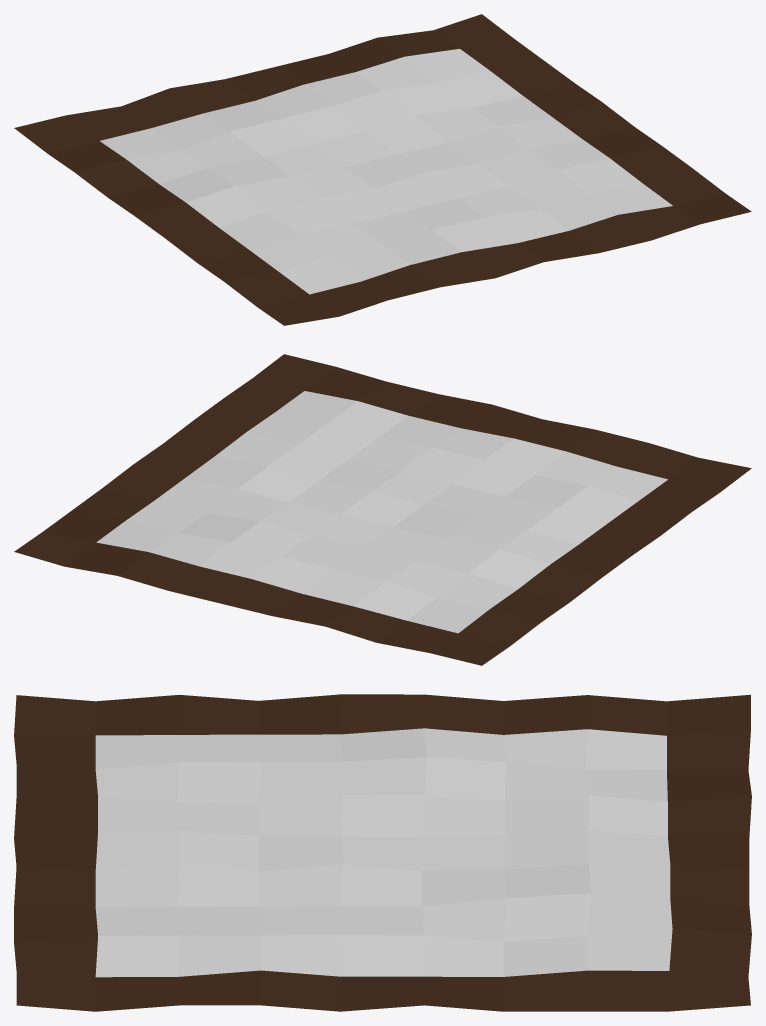
The model's file is Alfombra3.fbx.
3 views of the same model, one above another, from view 1: azimuth 30°, elevation 25°; view 2: azimuth 150°, elevation 25°; view 3: azimuth 270°, elevation 25° (orthographic). The views are drawn at different scales.
Parts seen in each view (by area): view 1: Alfombra3; view 2: Alfombra3; view 3: Alfombra3.
Boxes of the visible parts, bbox=[...] form: Alfombra3: bbox=[14, 14, 751, 325]; Alfombra3: bbox=[14, 354, 751, 665]; Alfombra3: bbox=[14, 694, 751, 1011].
Bounding box in the file's own units: 388 × 6.92 × 387.
